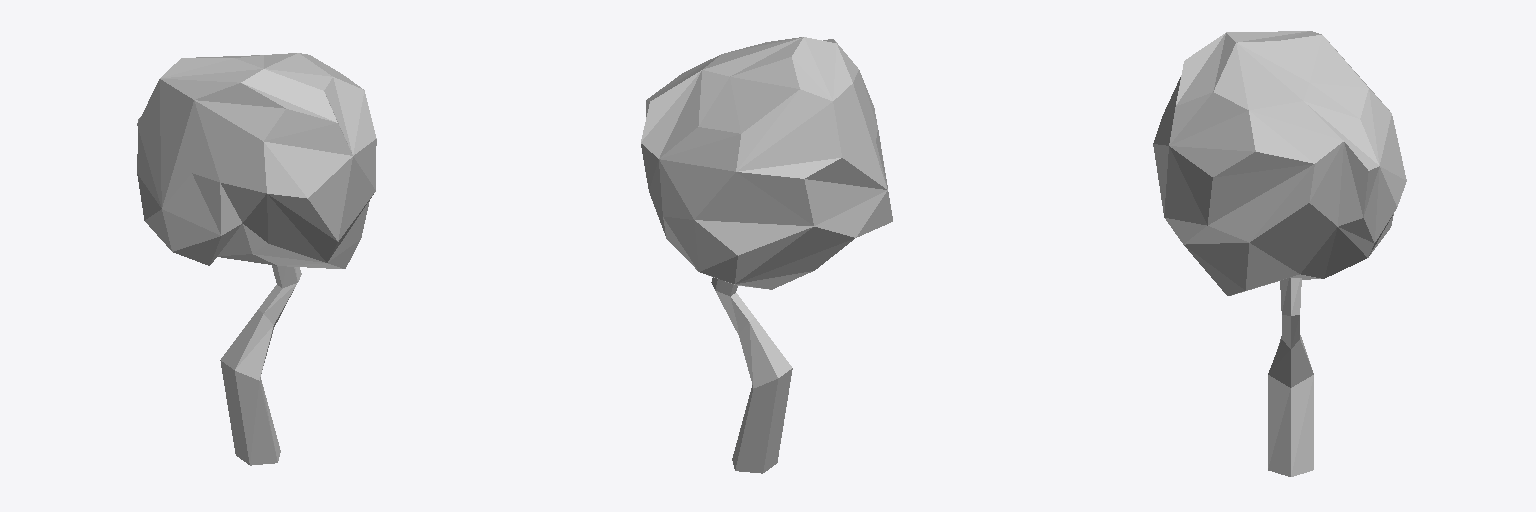
Rendered from Tree_low.obj.
3 renders of one model, left to right at view 1: azimuth 30°, elevation 25°; view 2: azimuth 150°, elevation 25°; view 3: azimuth 270°, elevation 25°, orthographic.
Visible parts, largest first — view 1: Hedra001, Cylinder002; view 2: Hedra001, Cylinder002; view 3: Hedra001, Cylinder002.
Boxes of the visible parts, x1,y1,x2,y2 form: Hedra001: [137, 53, 376, 268]; Cylinder002: [220, 265, 301, 465]; Hedra001: [641, 37, 892, 289]; Cylinder002: [711, 277, 792, 473]; Hedra001: [1153, 31, 1406, 295]; Cylinder002: [1268, 278, 1313, 476].
Bounding box in the file's own units: 65.79 × 121 × 67.59.